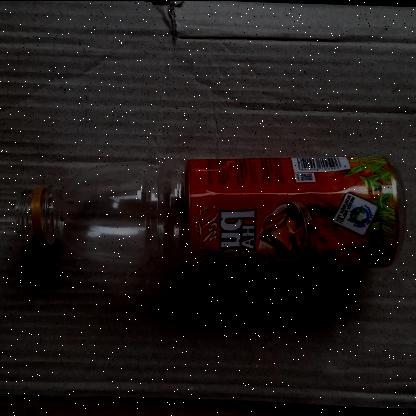Plastic Bottle: (15, 156, 402, 266)
